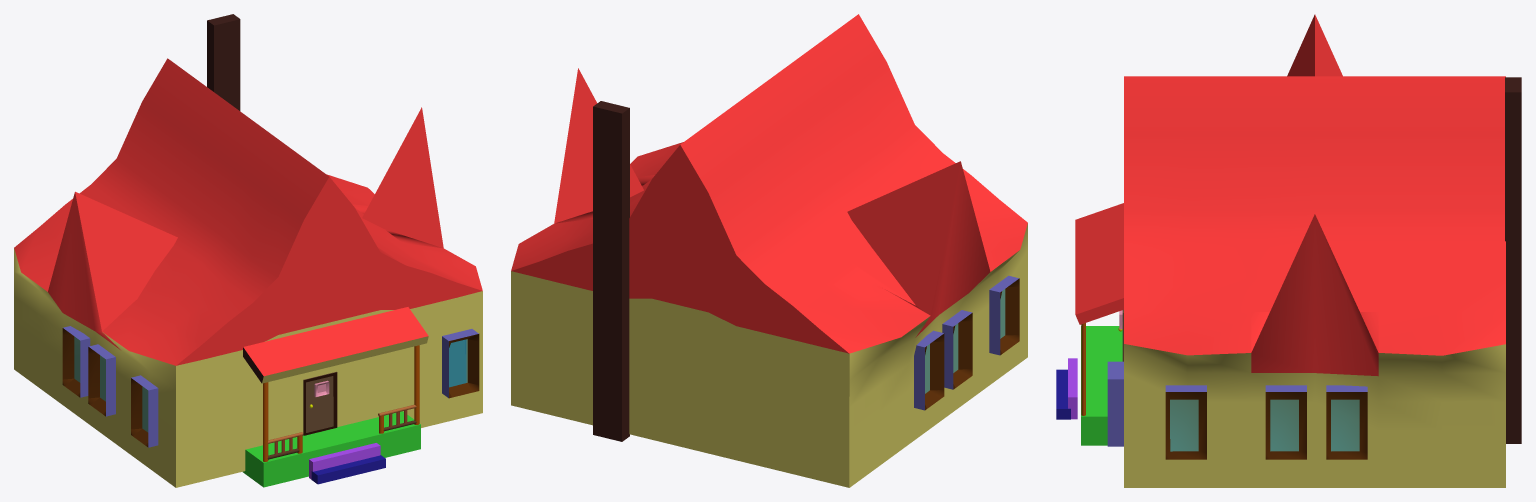
File: WitteHouse.FBX
The picture shows the model from 3 angles, left to right: view 1: azimuth 30°, elevation 25°; view 2: azimuth 150°, elevation 25°; view 3: azimuth 270°, elevation 25°; orthographic projection. The views are drawn at different scales.
Visible parts, largest first — view 1: Box001; view 2: Box001; view 3: Box001.
Part boxes in pixels (x1,y1,x2,y2): Box001: (14,14,482,487); Box001: (511,14,1027,487); Box001: (1056,14,1521,487).
Size of the model in its own units: 184 by 152 by 181.
